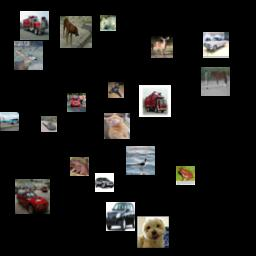airplane: (0, 112, 19, 131), (108, 82, 124, 98)
automobile: (15, 179, 50, 214), (106, 202, 135, 231), (203, 32, 229, 58), (67, 93, 86, 112), (95, 173, 114, 192)
bird: (126, 146, 155, 175)
cat: (104, 113, 130, 139)
deer: (14, 41, 43, 70), (151, 36, 173, 58)
dog: (60, 16, 92, 48), (137, 216, 169, 248), (100, 15, 116, 31)
frog: (70, 157, 89, 176), (176, 166, 195, 185)
ship: (41, 116, 57, 132)
truck: (139, 85, 171, 117), (20, 11, 49, 40)
